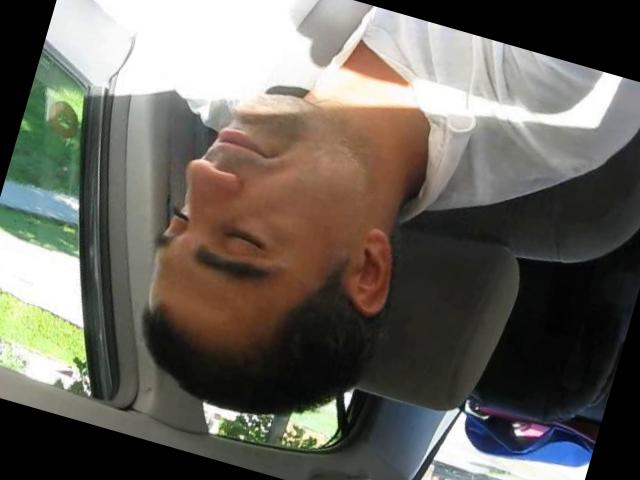eye_closed: (217, 218, 274, 260)
face: (153, 94, 354, 326)
